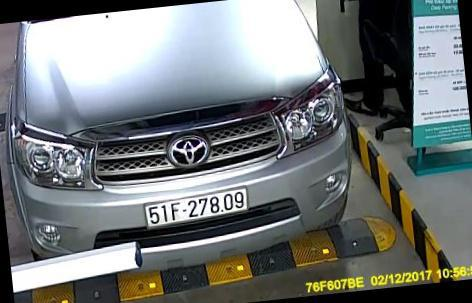License_Plate: (144, 184, 256, 230)
